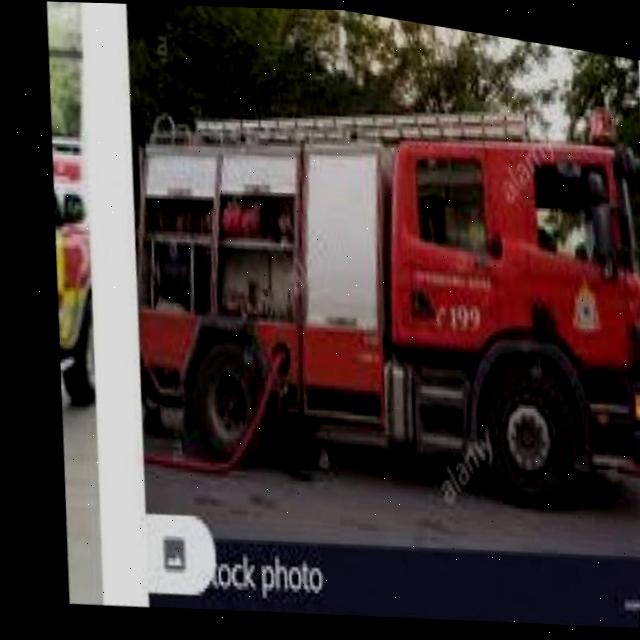emergency: (89, 31, 640, 524)
